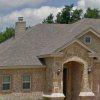Chimney: (9, 13, 28, 44)
